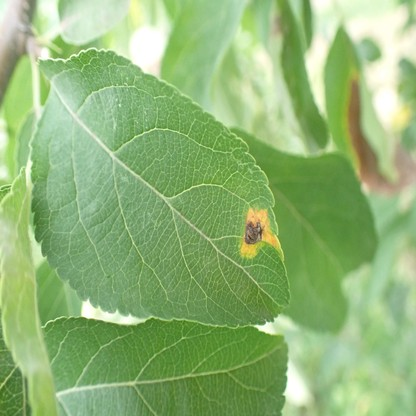rust: (240, 207, 280, 258)
